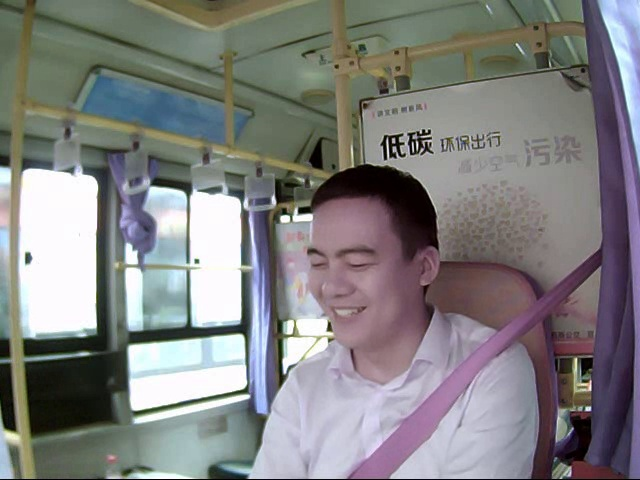closed_eye: (341, 258, 376, 270), (302, 257, 327, 269)
closed_mouth: (322, 301, 367, 320)
